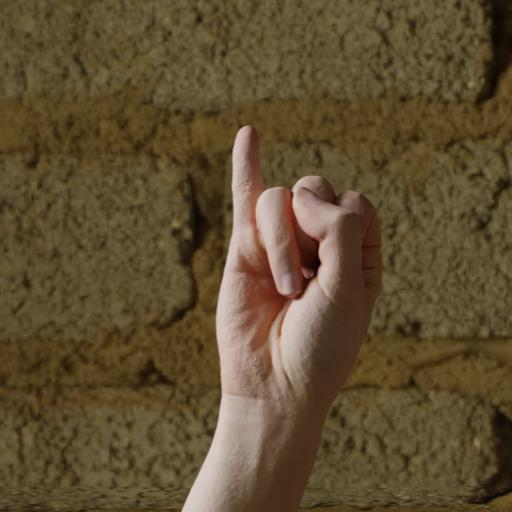I: (169, 80, 475, 485)
